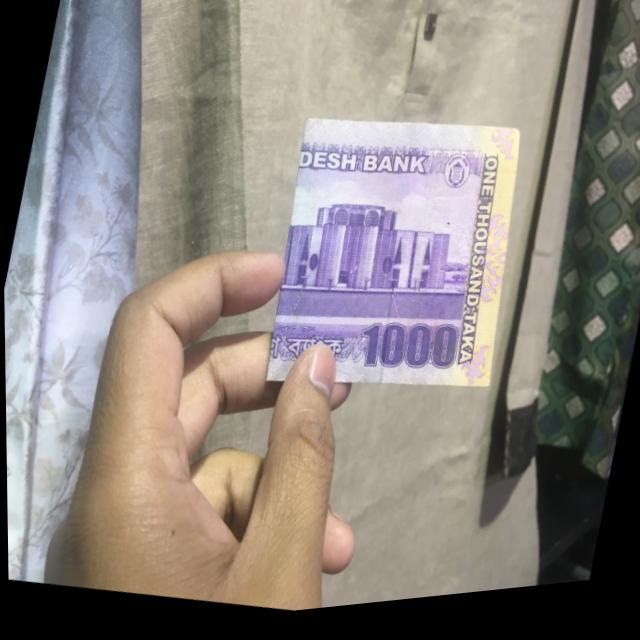Taka: (257, 104, 530, 412)
